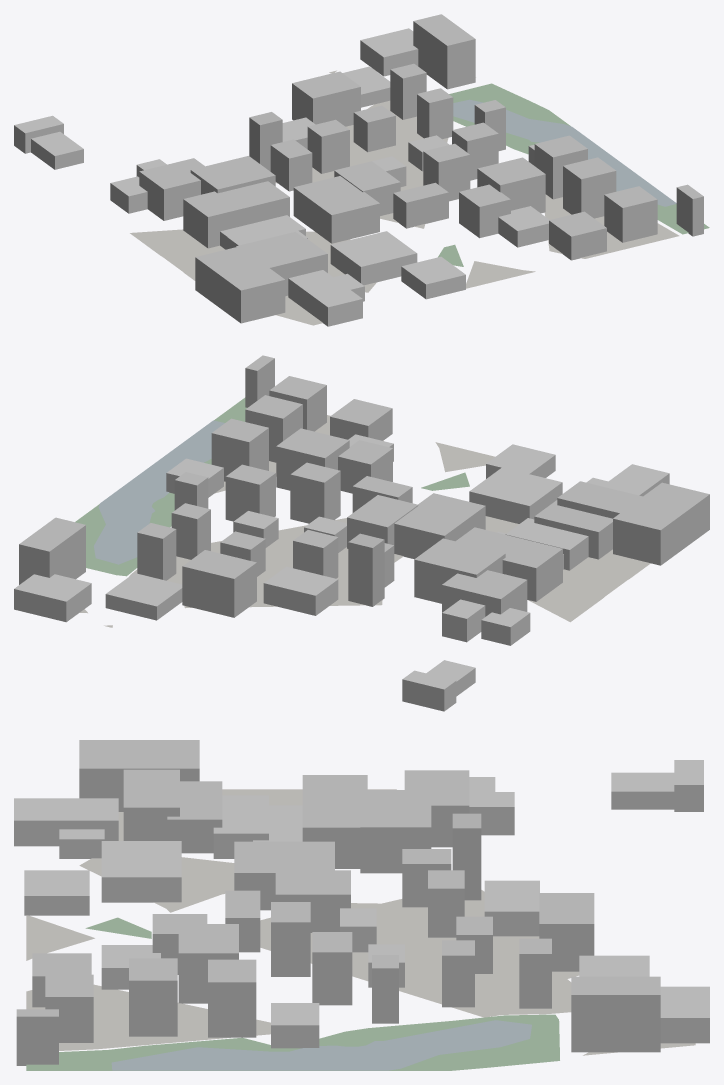
File: 131_91_mid.glb
The picture shows the model from 3 angles, top to bottom: view 1: azimuth 30°, elevation 25°; view 2: azimuth 150°, elevation 25°; view 3: azimuth 270°, elevation 25°; orthographic projection. The views are drawn at different scales.
Size of the model in its own units: 510 by 60.87 by 520.
